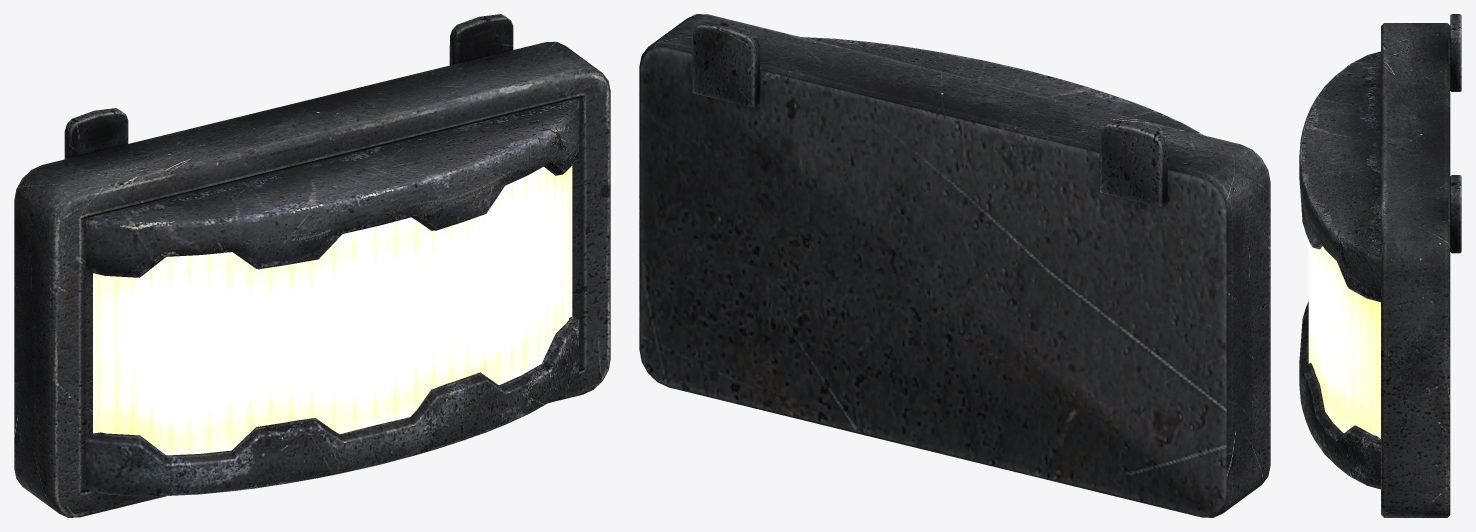
The model's file is lamp_wall_flat_small.dae.
3 views of the same model, side by side, from view 1: azimuth 30°, elevation 25°; view 2: azimuth 150°, elevation 25°; view 3: azimuth 270°, elevation 25° (orthographic). The views are drawn at different scales.
Parts seen in each view (by area): view 1: Main_default1; view 2: Main_default1; view 3: Main_default1.
Part boxes in pixels (x1,y1,x2,y2): Main_default1: (14, 14, 610, 517); Main_default1: (639, 14, 1270, 517); Main_default1: (1299, 14, 1461, 517).
Size of the model in its own units: 40 by 24.58 by 11.71.
